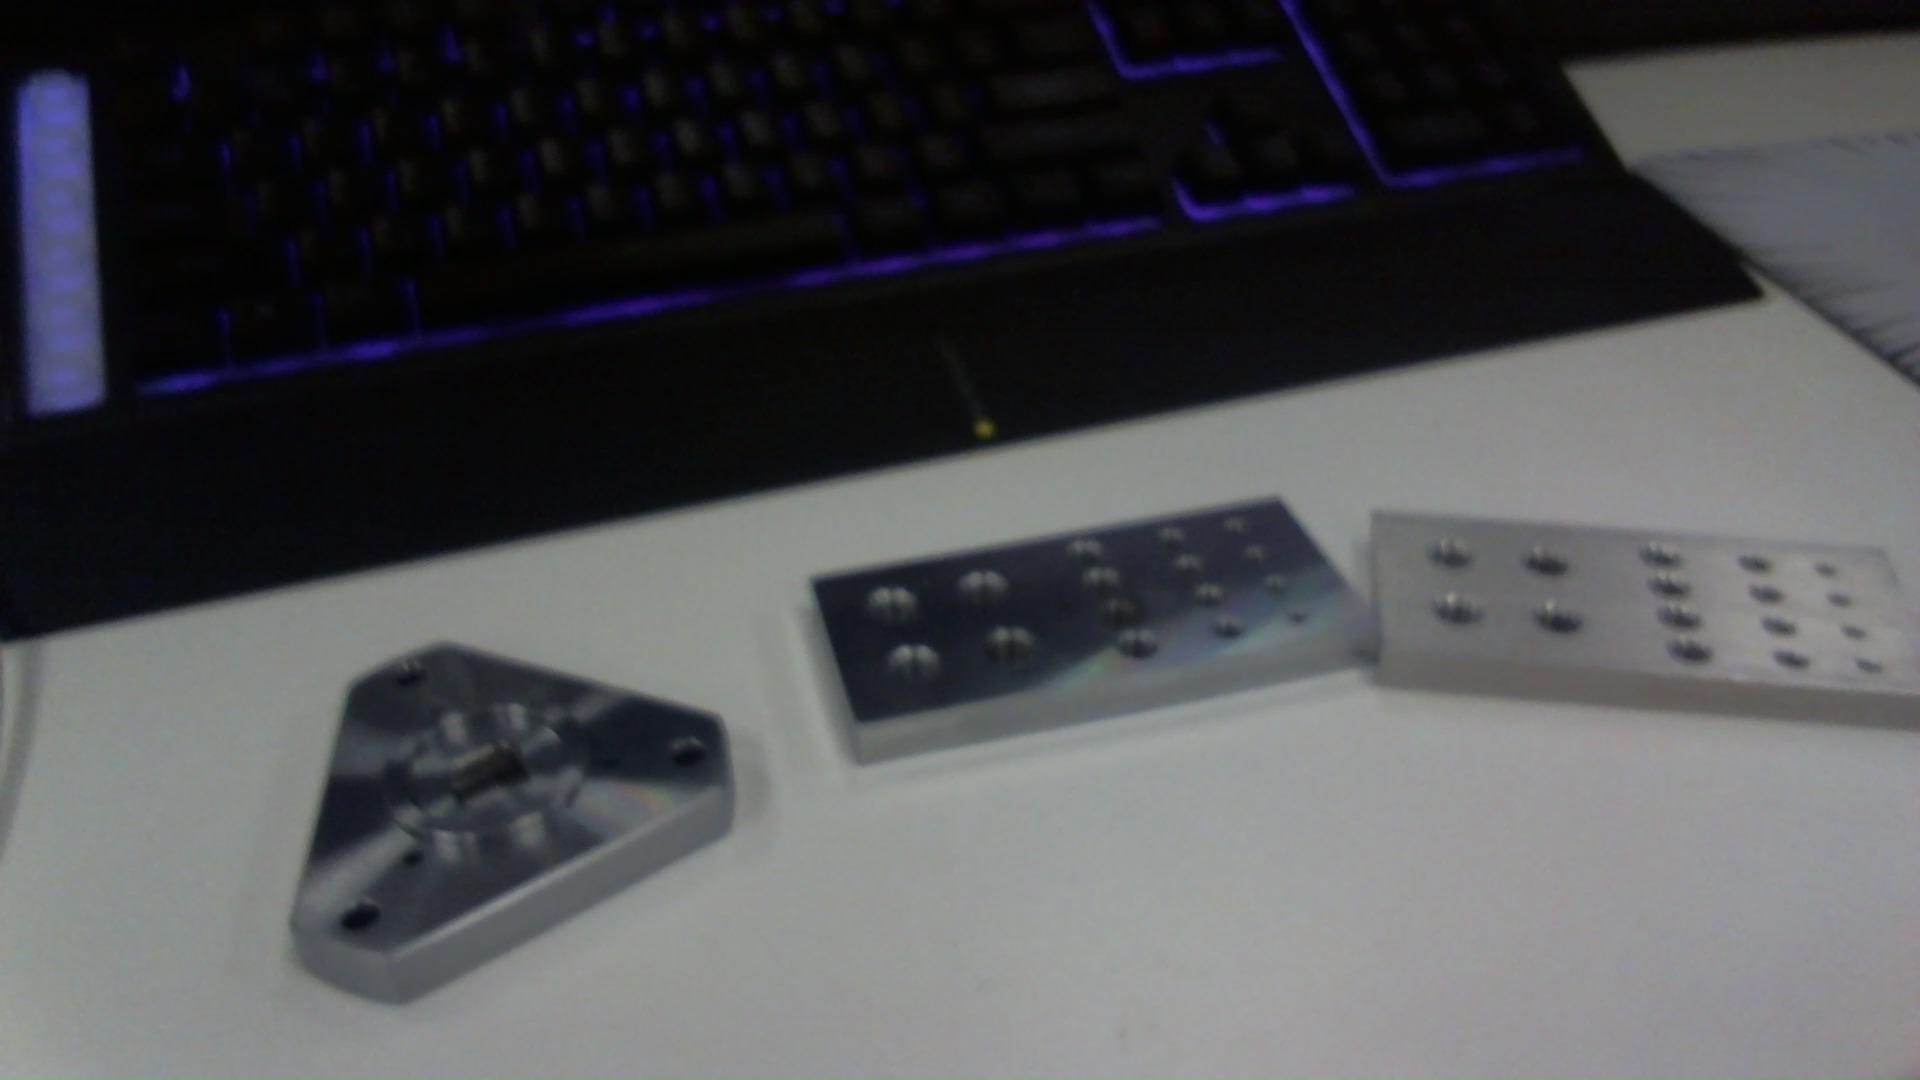hole: (852, 575, 923, 632), (881, 641, 947, 687), (955, 564, 1015, 611), (324, 895, 385, 939), (1524, 597, 1585, 641), (981, 622, 1042, 665), (1428, 593, 1486, 636), (1424, 529, 1477, 574), (1515, 545, 1577, 578), (1098, 601, 1153, 638), (1667, 633, 1716, 673), (1109, 637, 1162, 669), (1658, 603, 1705, 636), (662, 736, 711, 767), (389, 667, 440, 696), (1648, 568, 1691, 603), (1204, 611, 1247, 644), (389, 844, 434, 876), (1083, 566, 1127, 597), (1633, 543, 1681, 572), (1059, 535, 1102, 567), (1154, 524, 1191, 556), (1167, 546, 1205, 578), (1734, 549, 1775, 576), (1184, 582, 1224, 608), (1774, 644, 1808, 674), (1749, 585, 1785, 611), (1758, 616, 1799, 638), (1851, 659, 1888, 683), (592, 754, 628, 777), (1840, 616, 1867, 640), (1815, 560, 1840, 584), (1825, 588, 1850, 609)
